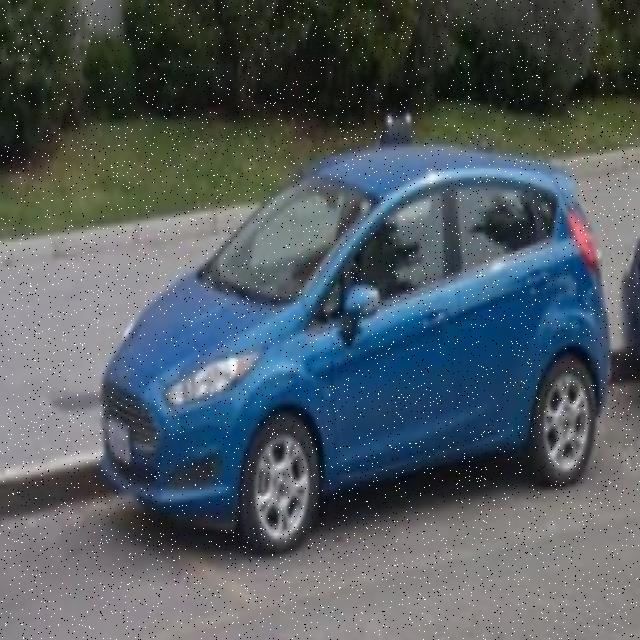cars: (83, 146, 605, 578)
